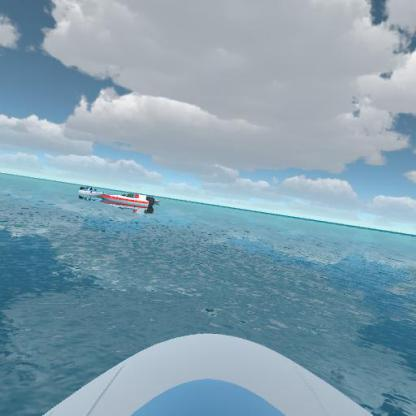usv1: (75, 181, 105, 200)
usv3: (101, 188, 157, 214)
